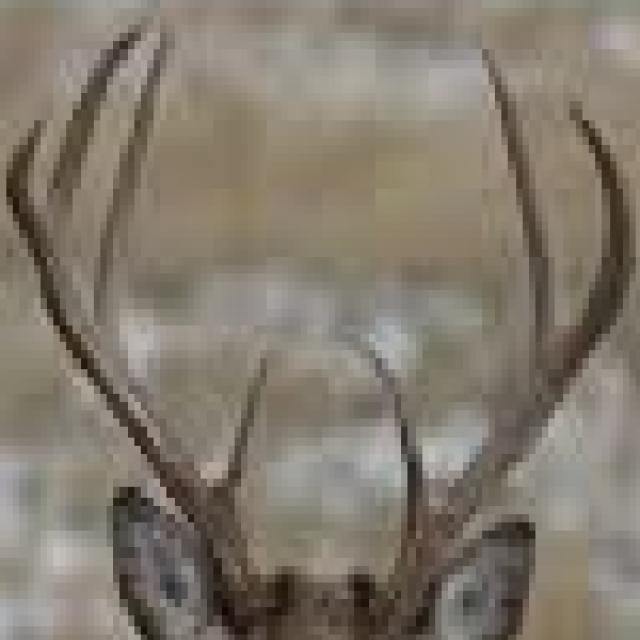L-F: (383, 96, 636, 640)
L-G1: (339, 324, 433, 548)
L-G2: (480, 45, 573, 379)
R-F: (4, 111, 275, 624)
R-G1: (209, 347, 275, 525)
R-G2: (90, 25, 180, 362)
